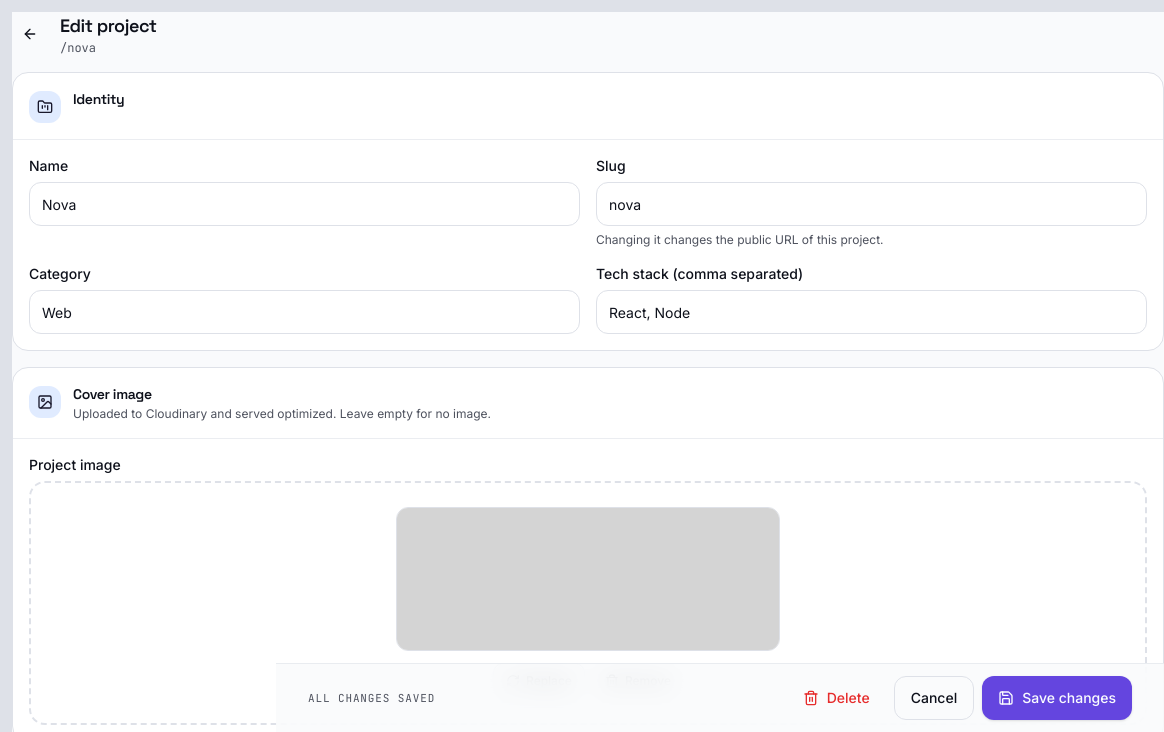
Test: ProjectEditor — dirty state lifecycle › 9. editing again after a save marks it dirty again
Expected: the text "All changes saved" is shown, [308,690,435,706]
Type " X" into the field labelled "Name" at x=304, y=204, box [29,182,580,226]
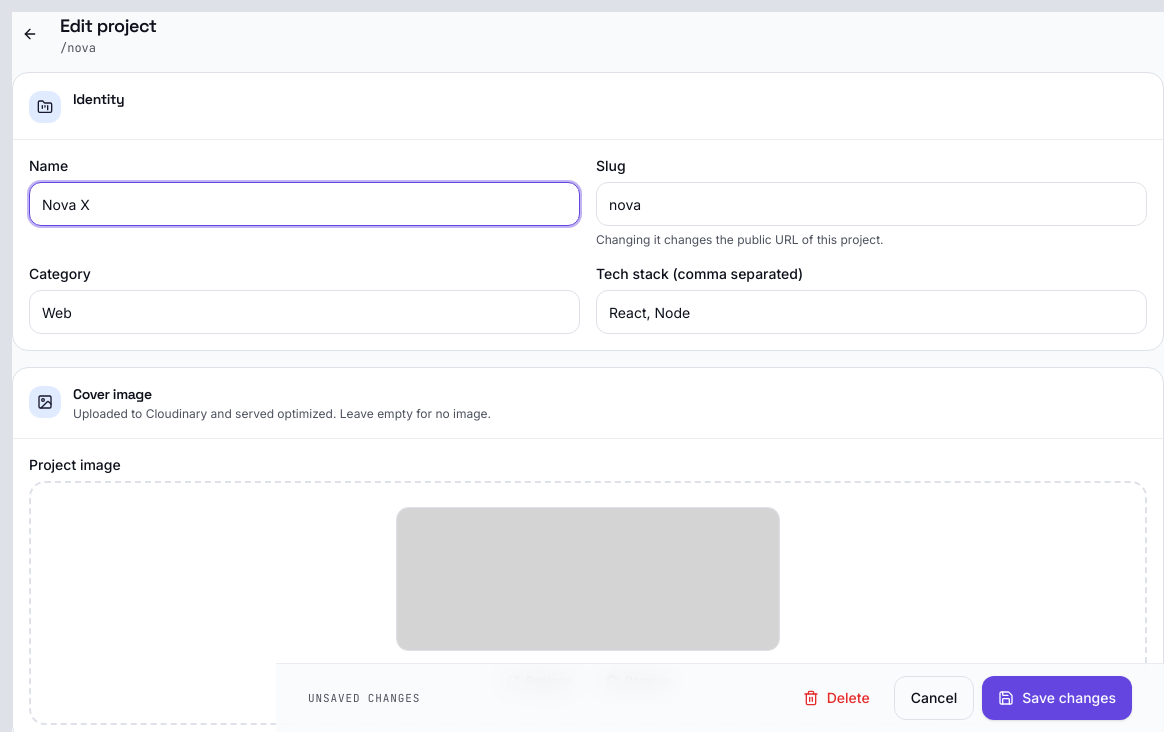
Click the button "Save changes" at x=1057, y=698, box [982,676,1132,720]
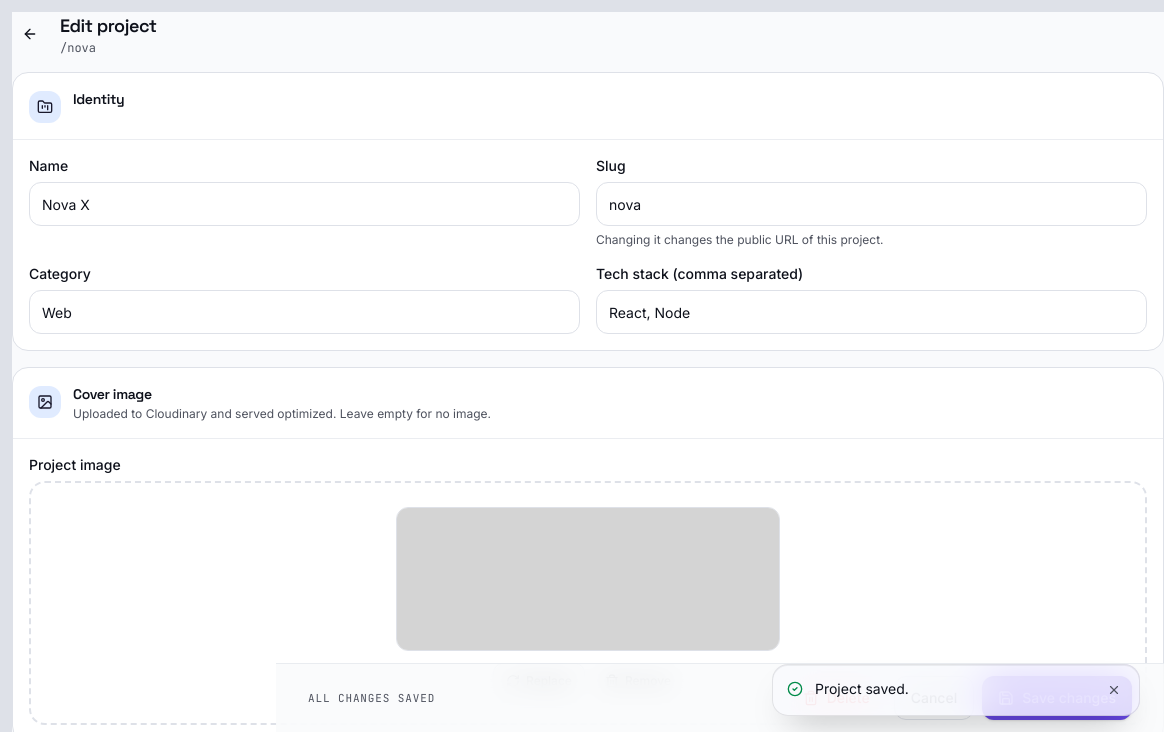
Result: the text "All changes saved" is shown at [308,690,435,706]
Type " Y" into the field labelled "Category" at x=304, y=312, box [29,290,580,334]
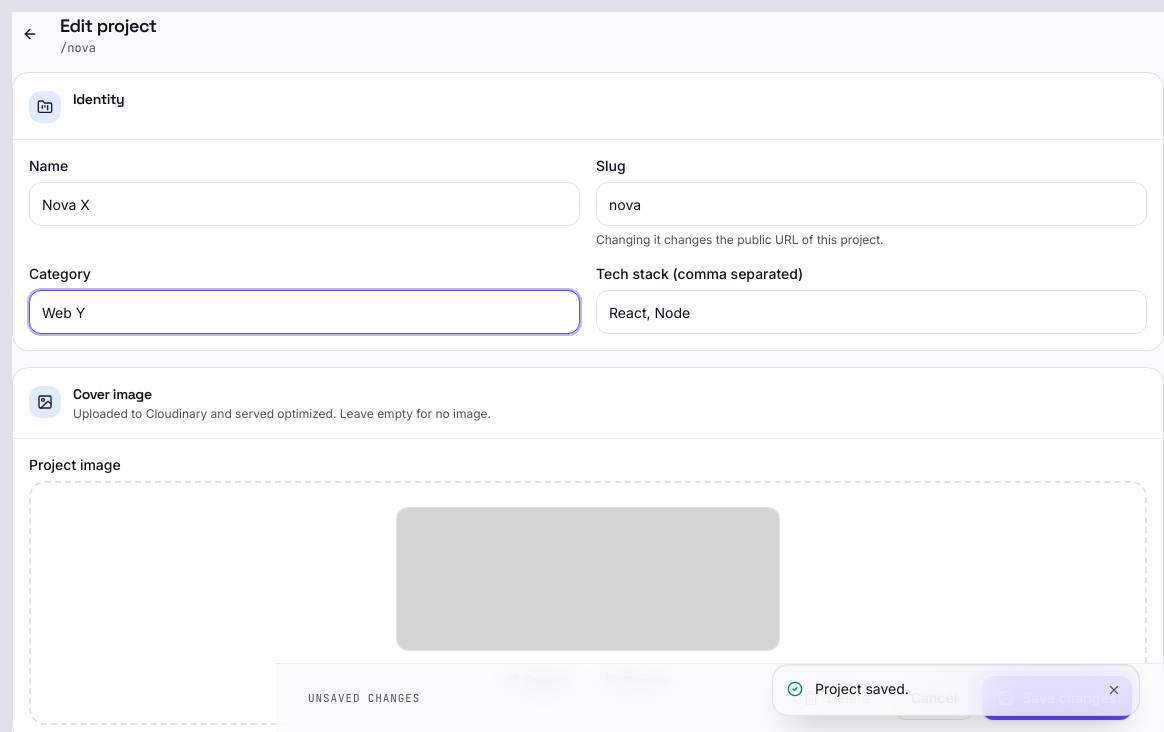
Result: the text "Unsaved changes" is shown at [308,690,420,706]
